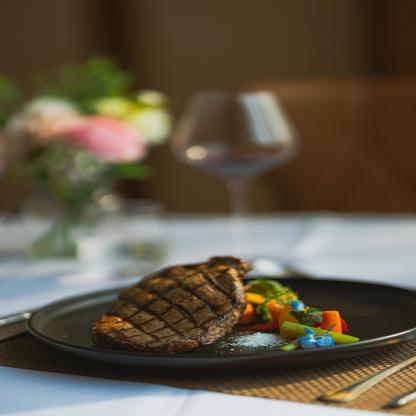Carne: (92, 257, 247, 350)
